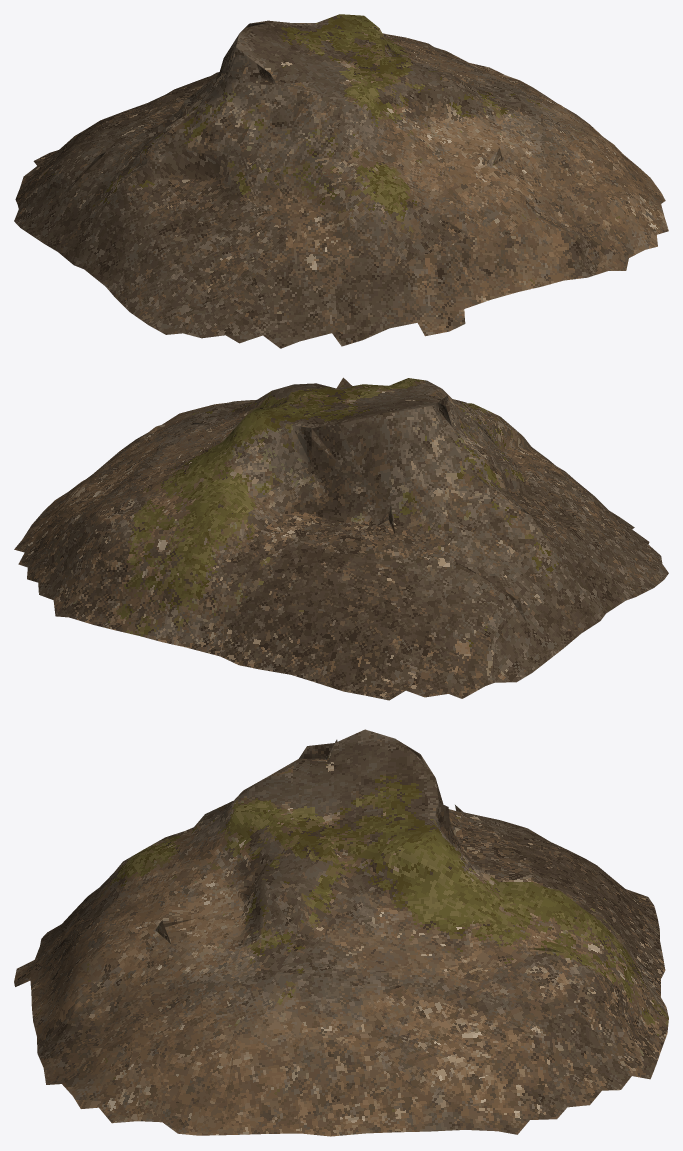
The model's file is tree_stump_02.glb.
3 renders of one model, top to bottom at view 1: azimuth 30°, elevation 25°; view 2: azimuth 150°, elevation 25°; view 3: azimuth 270°, elevation 25°, orthographic. The views are drawn at different scales.
Visible parts, largest first — view 1: mesh; view 2: mesh; view 3: mesh.
Boxes of the visible parts, left/top/right/bottom form: mesh: left=14, top=14, right=668, bottom=348; mesh: left=14, top=377, right=668, bottom=700; mesh: left=14, top=729, right=668, bottom=1136.
Bounding box in the file's own units: 1.5 × 0.5221 × 1.39.
Materials: 1 (1 with a texture image).
